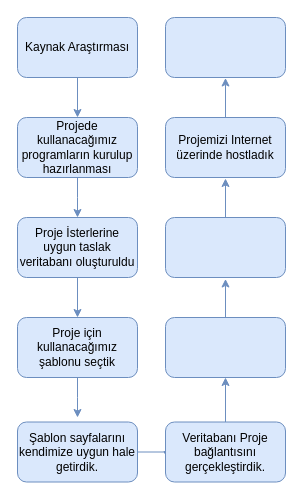
This 303x500 diagram has some shape labels left out. The shapes that lost their labels are listed below. From the top down, each one's box as (x1, y1, x2, y2) in pixels, then its label:
(164, 16, 286, 78): Proje raporumuzu hazırlayarak proje teslimatımızı yaptık
(164, 216, 286, 278): Sayfaları ve Sayfaların yapması gereken işlemleri düzenledik
(164, 316, 286, 378): GUI Tasarlanması
